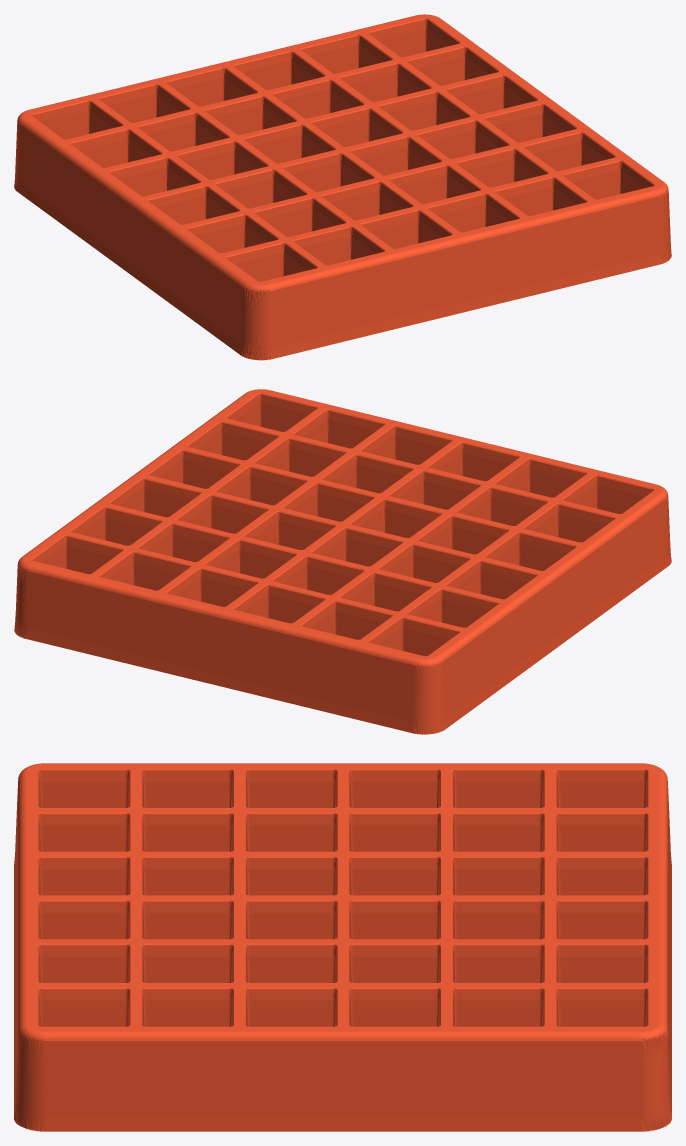
The model's file is mold.glb.
3 renders of one model, top to bottom at view 1: azimuth 30°, elevation 25°; view 2: azimuth 150°, elevation 25°; view 3: azimuth 270°, elevation 25°, orthographic. The views are drawn at different scales.
Parts seen in each view (by area): view 1: geometry_0; view 2: geometry_0; view 3: geometry_0.
Boxes of the visible parts, box(x1,y1,x2,y2) form: geometry_0: box(14, 14, 671, 360); geometry_0: box(14, 389, 671, 734); geometry_0: box(14, 763, 671, 1131).
Size of the model in its own units: 0.1877 by 0.0299 by 0.1877.
